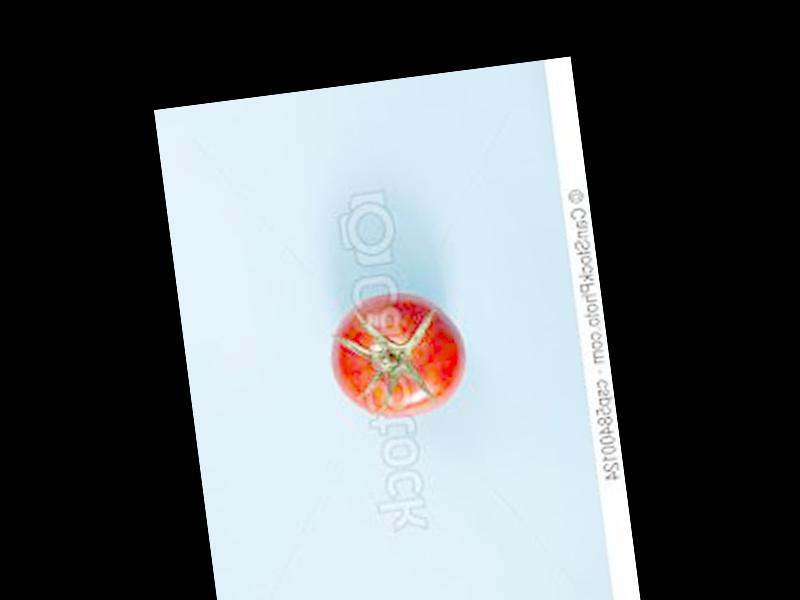Tomato: (325, 287, 474, 423)
